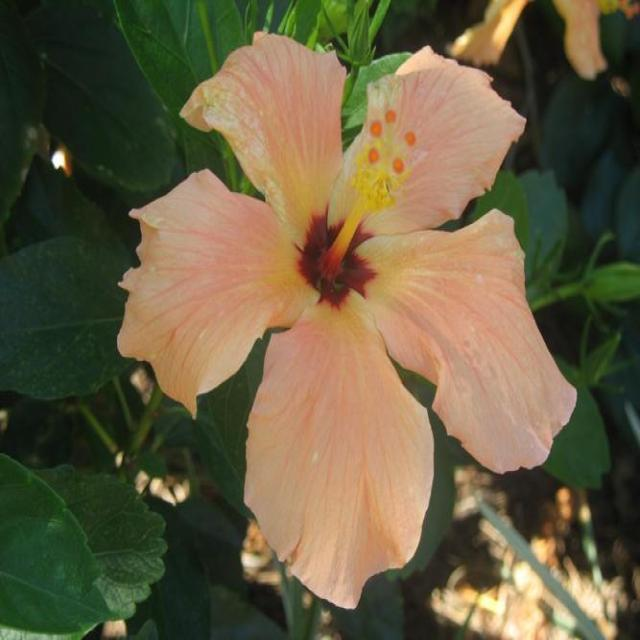hibiscus: (91, 9, 608, 597)
